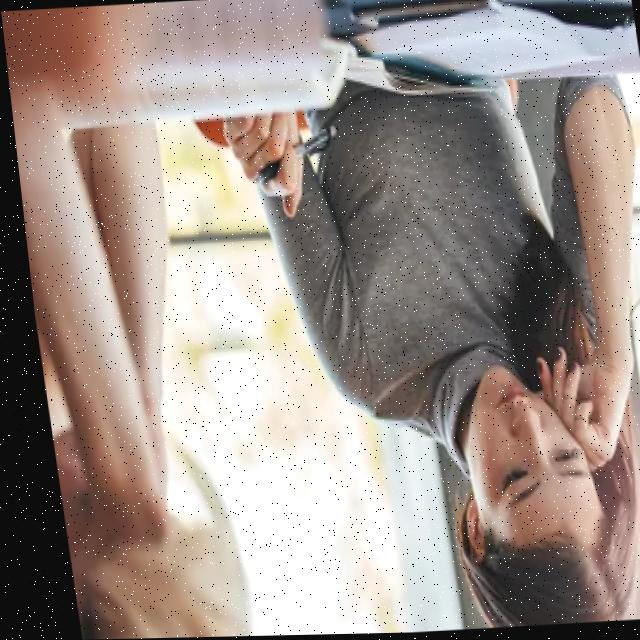studying-person: (181, 0, 640, 637)
